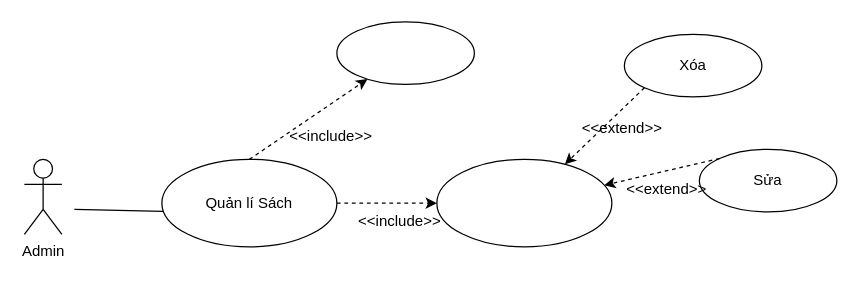
Some shapes in this 859 by 283 pixel diagram are drawn without their labels. Here are the shapes that lost their labels. From the top down, the centre of each, then its label:
At pixel 405 52: "Thêm".
At pixel 524 202: "Xem Danh sách".
